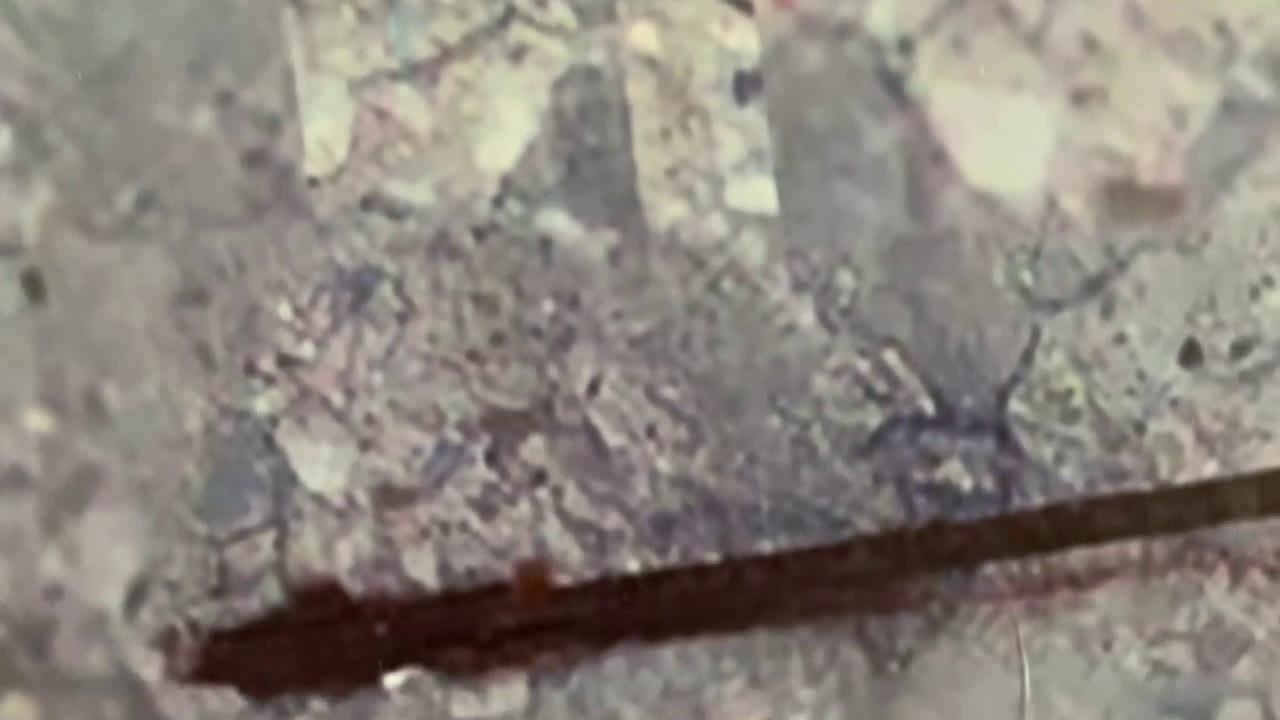Exposed reinforcement: (177, 467, 1280, 705)
